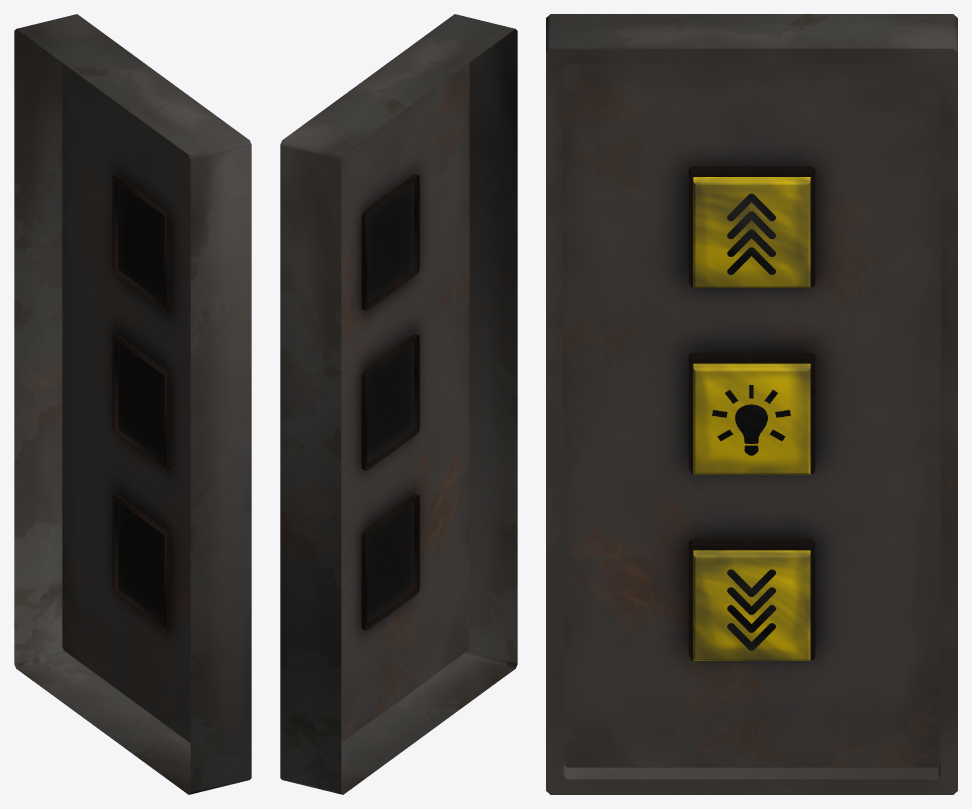
The model's file is Elevator_Panel_01.fbx.
The picture shows the model from 3 angles, left to right: view 1: azimuth 30°, elevation 25°; view 2: azimuth 150°, elevation 25°; view 3: azimuth 270°, elevation 25°; orthographic projection. The views are drawn at different scales.
Parts seen in each view (by area): view 1: ElevatorPanel01_ButtonDown; view 2: ElevatorPanel01_ButtonDown; view 3: ElevatorPanel01_ButtonDown.
Part boxes in pixels (x1,y1,x2,y2): ElevatorPanel01_ButtonDown: (14,14,251,794); ElevatorPanel01_ButtonDown: (280,14,517,794); ElevatorPanel01_ButtonDown: (546,14,957,794).
Bounding box in the file's own units: 20.22 × 200 × 100.
